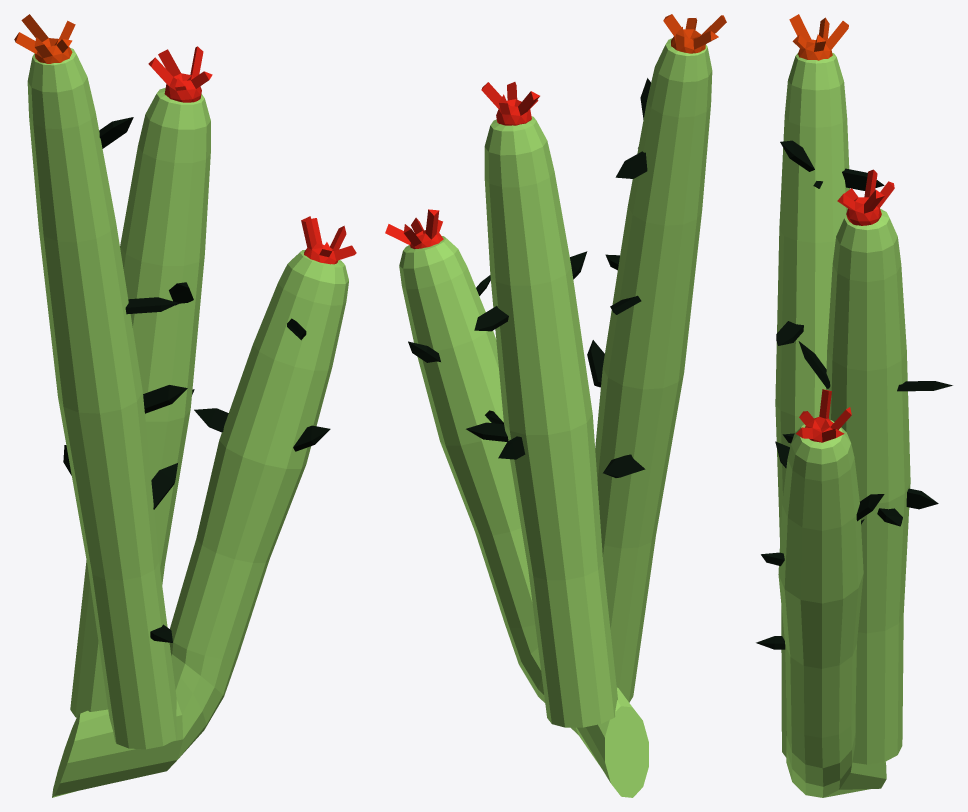
File: Cactus_2.fbx
3 renders of one model, left to right at view 1: azimuth 30°, elevation 25°; view 2: azimuth 150°, elevation 25°; view 3: azimuth 270°, elevation 25°, orthographic. The views are drawn at different scales.
Visible parts, largest first — view 1: Cactus; view 2: Cactus; view 3: Cactus.
Boxes of the visible parts, bbox=[...] form: Cactus: bbox=[14, 14, 356, 797]; Cactus: bbox=[385, 14, 726, 797]; Cactus: bbox=[756, 14, 952, 797].
Bounding box in the file's own units: 1.63 × 3.7 × 0.8829.
